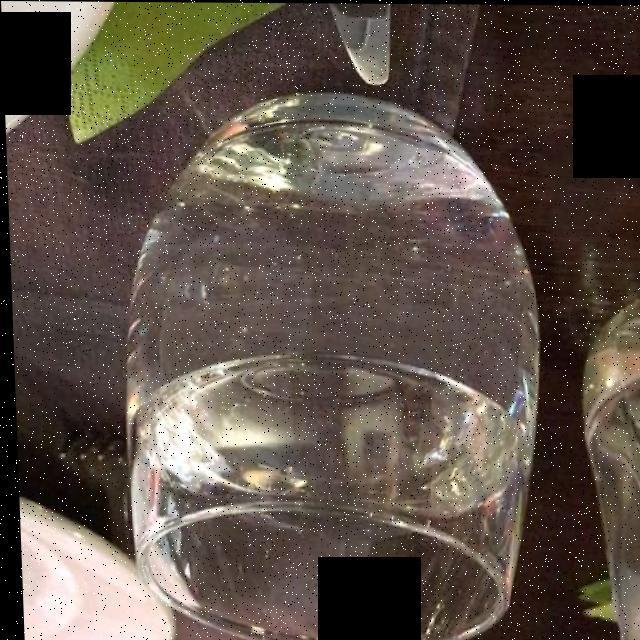water: (124, 97, 533, 525)
